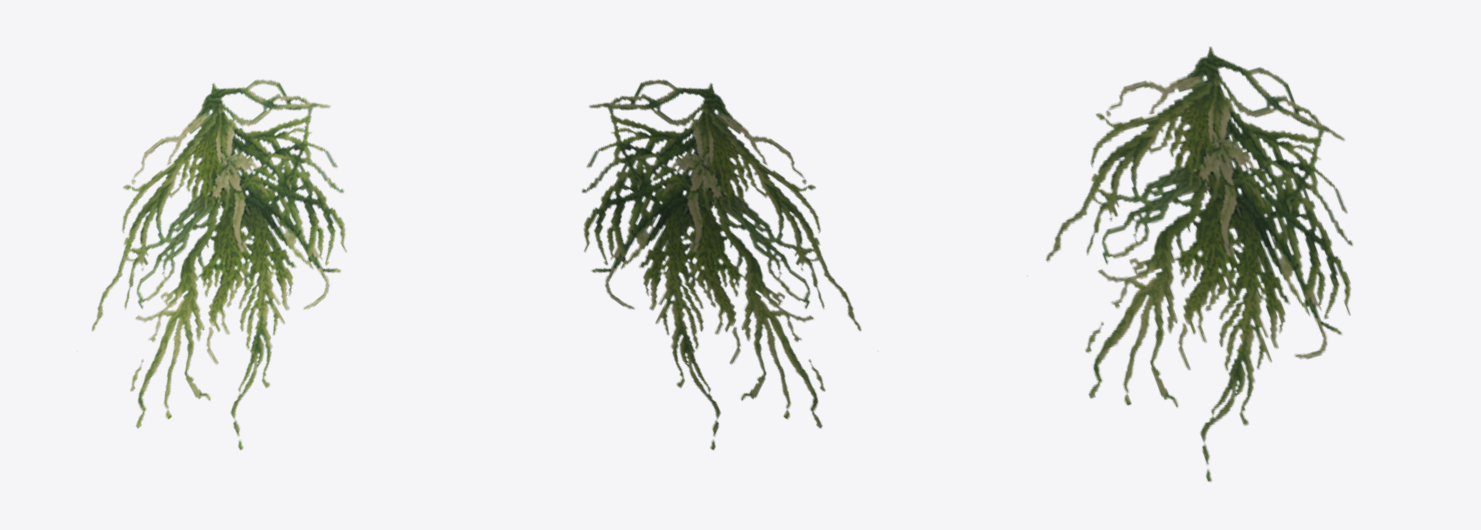
File: Forest_1_Tree_5_Liquen_1.gltf
The picture shows the model from 3 angles, left to right: view 1: azimuth 30°, elevation 25°; view 2: azimuth 150°, elevation 25°; view 3: azimuth 330°, elevation 25°; orthographic projection. The views are drawn at different scales.
Visible parts, largest first — view 1: Forest_1_Tree_5_Liquen_1; view 2: Forest_1_Tree_5_Liquen_1; view 3: Forest_1_Tree_5_Liquen_1.
Part boxes in pixels (left/top/right/bottom): Forest_1_Tree_5_Liquen_1: left=91, top=79, right=346, bottom=450; Forest_1_Tree_5_Liquen_1: left=581, top=79, right=861, bottom=450; Forest_1_Tree_5_Liquen_1: left=1046, top=46, right=1352, bottom=481.
Bounding box in the file's own units: 5.26 × 5.25 × 0.4189.
1 material, 1 textured.
